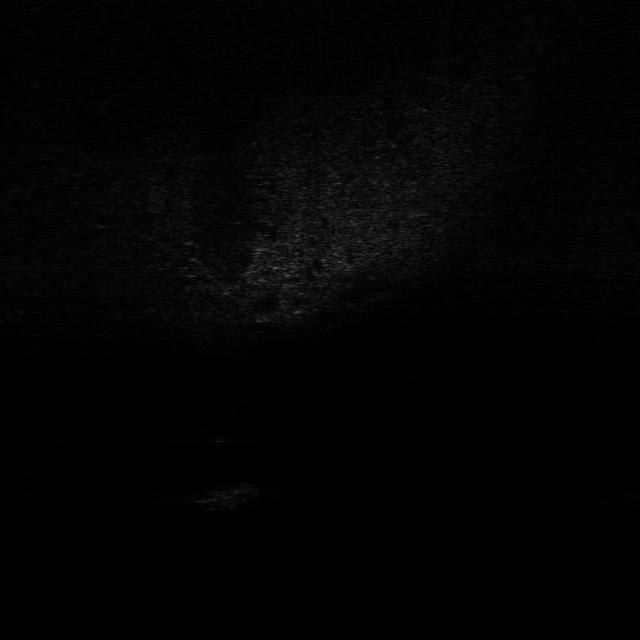ball: (200, 414, 238, 446)
circle cage: (192, 477, 268, 514)
